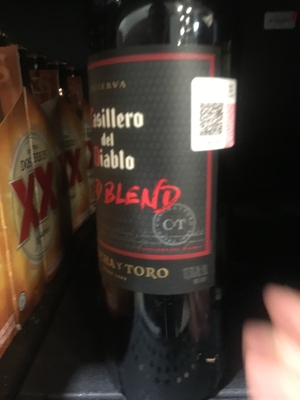casillero del diablo red blend: (75, 17, 246, 400)
